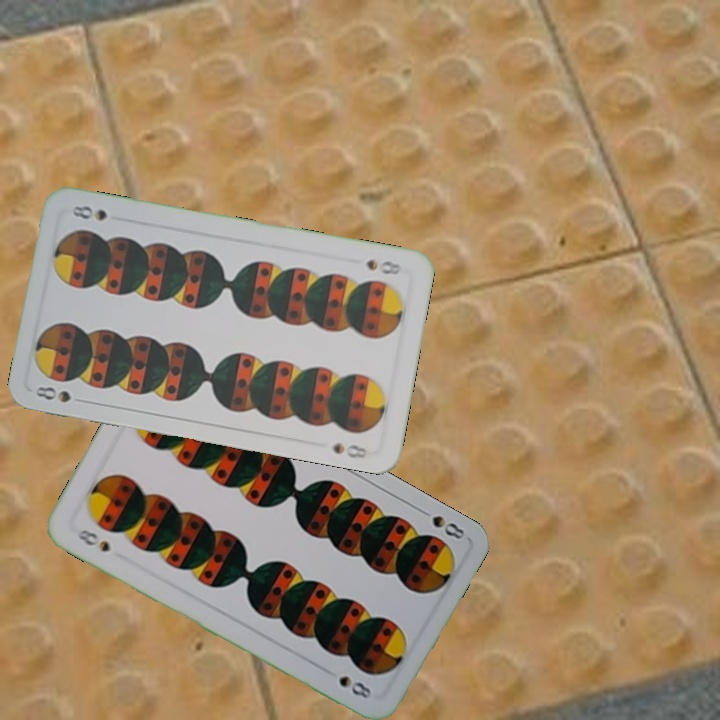S8: (414, 504, 468, 542), (70, 525, 113, 555), (362, 255, 405, 278), (31, 382, 73, 405)
